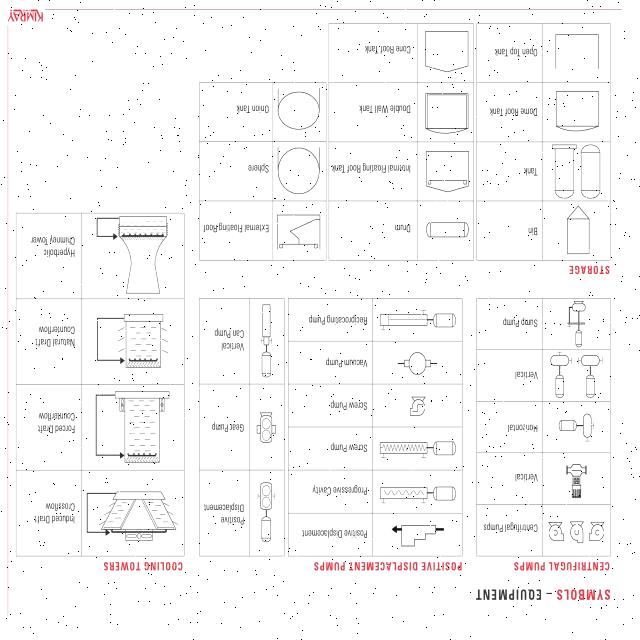Centrifugal Pump: (544, 518, 568, 544), (588, 520, 610, 544), (570, 518, 586, 546)
Gear Pump: (253, 407, 281, 458)
Horizontal Pump: (551, 408, 600, 446)
Positive Displacement: (386, 518, 451, 550)
Screw Pump: (376, 436, 458, 462), (405, 392, 436, 421)
Sump Pump: (556, 299, 596, 347)
Tank: (578, 142, 608, 202), (550, 140, 579, 200)
Vertical Pump: (561, 458, 593, 504), (576, 354, 606, 400), (546, 350, 574, 398)
